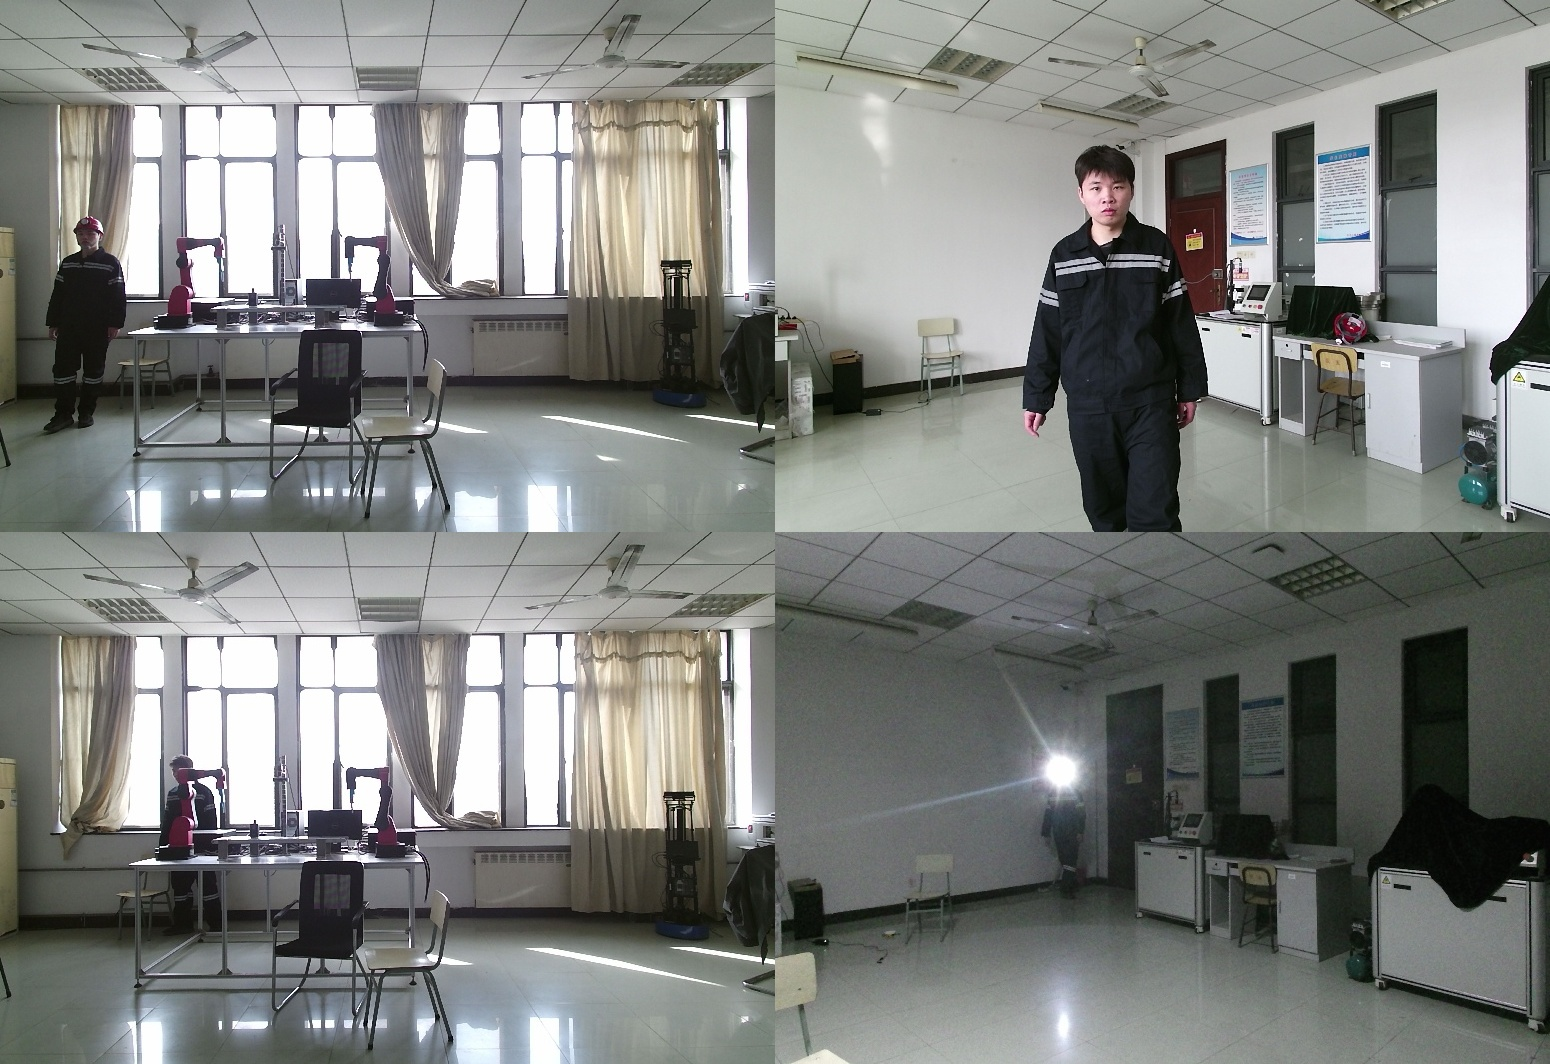person: (1023, 146, 1223, 532), (40, 215, 127, 433), (157, 755, 226, 943), (1041, 768, 1089, 898)
